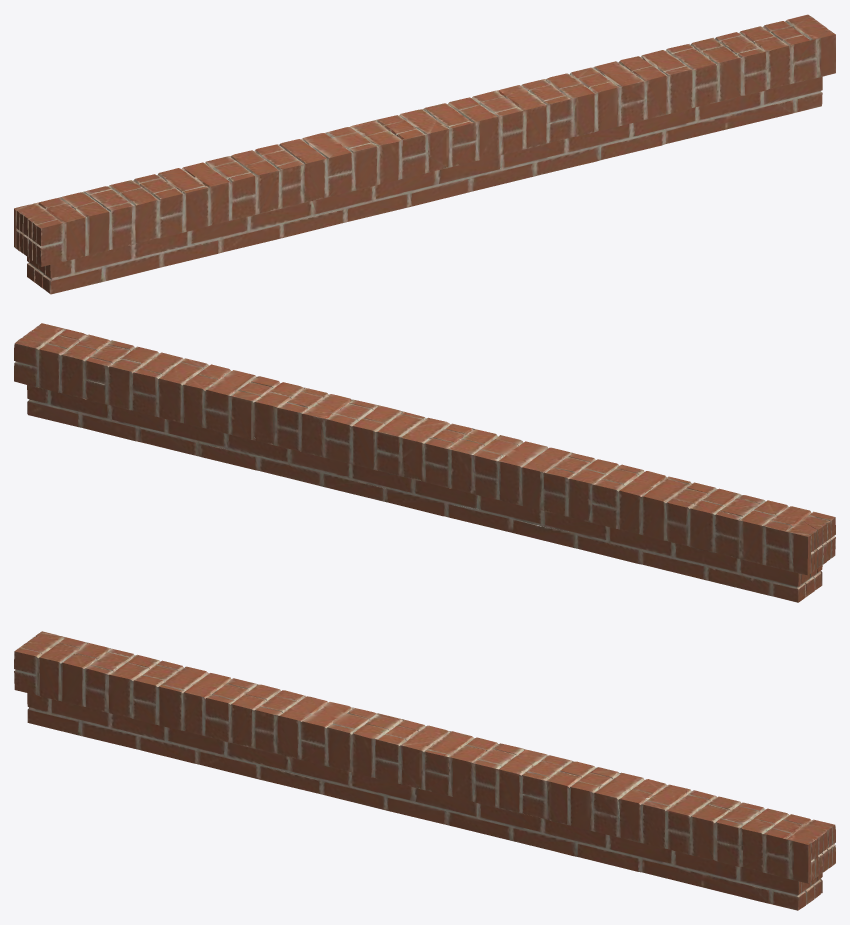
File: familok_string_course.glb
3 renders of one model, top to bottom at view 1: azimuth 30°, elevation 25°; view 2: azimuth 150°, elevation 25°; view 3: azimuth 330°, elevation 25°, orthographic.
Visible parts, largest first — view 1: main; view 2: main; view 3: main.
Boxes of the visible parts, x1=… form: main: x1=14, y1=14, x2=835, y2=294; main: x1=14, y1=323, x2=835, y2=602; main: x1=14, y1=631, x2=835, y2=910.
Bounding box in the file's own units: 2 × 0.1699 × 0.1201.
Materials: 1 (1 with a texture image).
